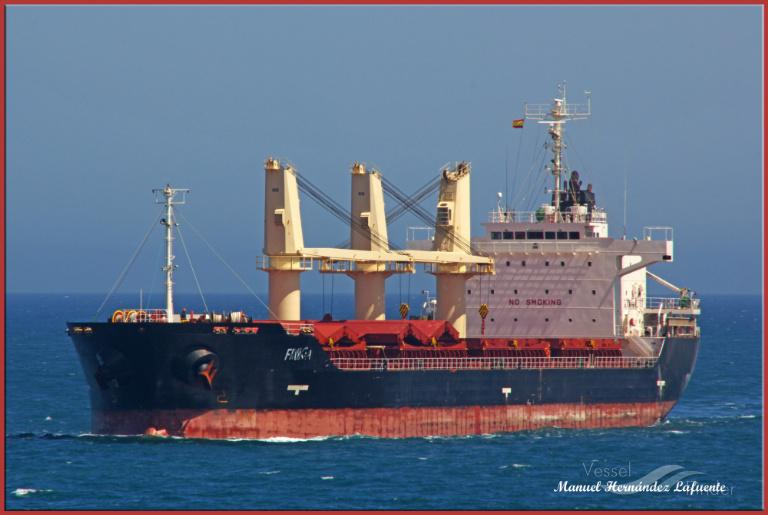OCR: (284, 338, 316, 364)
